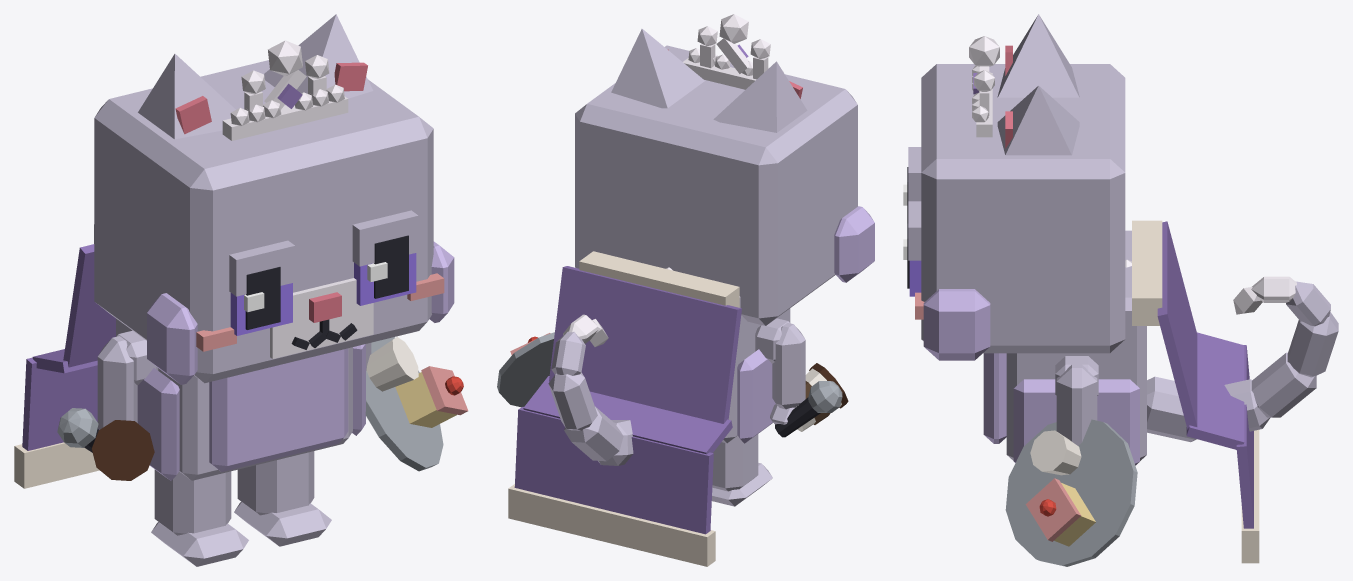
File: CatCafe_Cat_DuchessMarzipan_Work.glb
3 renders of one model, left to right at view 1: azimuth 30°, elevation 25°; view 2: azimuth 150°, elevation 25°; view 3: azimuth 270°, elevation 25°, orthographic. The views are drawn at different scales.
Visible parts, largest first — view 1: CatCafe_Cat_DuchessMarzipan_Work_Head, CatCafe_Cat_DuchessMarzipan_Work_Body, CatCafe_Cat_DuchessMarzipan_Work_Prop2, CatCafe_Cat_DuchessMarzipan_Work_Held_Waiter, CatCafe_Cat_DuchessMarzipan_Work_Prop, CatCafe_Cat_DuchessMarzipan_Work_LegB2, CatCafe_Cat_DuchessMarzipan_Work_LegB1, CatCafe_Cat_DuchessMarzipan_Work_Eye2, CatCafe_Cat_DuchessMarzipan_Work_Eye1, CatCafe_Cat_DuchessMarzipan_Work_EarR, CatCafe_Cat_DuchessMarzipan_Work_EarL, CatCafe_Cat_DuchessMarzipan_Work_LegF2 (+2 smaller); view 2: CatCafe_Cat_DuchessMarzipan_Work_Head, CatCafe_Cat_DuchessMarzipan_Work_Prop2, CatCafe_Cat_DuchessMarzipan_Work_Tail, CatCafe_Cat_DuchessMarzipan_Work_Body, CatCafe_Cat_DuchessMarzipan_Work_EarL, CatCafe_Cat_DuchessMarzipan_Work_Prop, CatCafe_Cat_DuchessMarzipan_Work_EarR, CatCafe_Cat_DuchessMarzipan_Work_LegB2, CatCafe_Cat_DuchessMarzipan_Work_LegF2, CatCafe_Cat_DuchessMarzipan_Work_Held_Waiter, CatCafe_Cat_DuchessMarzipan_Work_Held_Entertainer, CatCafe_Cat_DuchessMarzipan_Work_Held_Barista; view 3: CatCafe_Cat_DuchessMarzipan_Work_Head, CatCafe_Cat_DuchessMarzipan_Work_Prop2, CatCafe_Cat_DuchessMarzipan_Work_Held_Waiter, CatCafe_Cat_DuchessMarzipan_Work_Body, CatCafe_Cat_DuchessMarzipan_Work_Tail, CatCafe_Cat_DuchessMarzipan_Work_EarL, CatCafe_Cat_DuchessMarzipan_Work_EarR, CatCafe_Cat_DuchessMarzipan_Work_LegF1, CatCafe_Cat_DuchessMarzipan_Work_Prop, CatCafe_Cat_DuchessMarzipan_Work_Eye1, CatCafe_Cat_DuchessMarzipan_Work_Eye2.
Boxes of the visible parts, left/top/right/bottom form: CatCafe_Cat_DuchessMarzipan_Work_Head: left=94, top=60, right=454, bottom=384; CatCafe_Cat_DuchessMarzipan_Work_Body: left=116, top=318, right=365, bottom=480; CatCafe_Cat_DuchessMarzipan_Work_Prop2: left=14, top=244, right=115, bottom=488; CatCafe_Cat_DuchessMarzipan_Work_Held_Waiter: left=365, top=337, right=468, bottom=471; CatCafe_Cat_DuchessMarzipan_Work_Prop: left=222, top=40, right=348, bottom=140; CatCafe_Cat_DuchessMarzipan_Work_LegB2: left=151, top=469, right=248, bottom=566; CatCafe_Cat_DuchessMarzipan_Work_LegB1: left=234, top=451, right=331, bottom=546; CatCafe_Cat_DuchessMarzipan_Work_Eye2: left=229, top=240, right=295, bottom=335; CatCafe_Cat_DuchessMarzipan_Work_Eye1: left=352, top=210, right=418, bottom=305; CatCafe_Cat_DuchessMarzipan_Work_EarR: left=138, top=54, right=235, bottom=139; CatCafe_Cat_DuchessMarzipan_Work_EarL: left=264, top=14, right=373, bottom=98; CatCafe_Cat_DuchessMarzipan_Work_LegF2: left=97, top=336, right=137, bottom=429; CatCafe_Cat_DuchessMarzipan_Work_Head: left=575, top=45, right=874, bottom=325; CatCafe_Cat_DuchessMarzipan_Work_Prop2: left=508, top=251, right=741, bottom=566; CatCafe_Cat_DuchessMarzipan_Work_Tail: left=548, top=314, right=633, bottom=465; CatCafe_Cat_DuchessMarzipan_Work_Body: left=722, top=296, right=790, bottom=443; CatCafe_Cat_DuchessMarzipan_Work_EarL: left=611, top=29, right=704, bottom=108; CatCafe_Cat_DuchessMarzipan_Work_Prop: left=683, top=14, right=783, bottom=89; CatCafe_Cat_DuchessMarzipan_Work_EarR: left=713, top=61, right=807, bottom=132; CatCafe_Cat_DuchessMarzipan_Work_LegB2: left=711, top=434, right=772, bottom=506; CatCafe_Cat_DuchessMarzipan_Work_LegF2: left=770, top=322, right=805, bottom=424; CatCafe_Cat_DuchessMarzipan_Work_Held_Waiter: left=497, top=332, right=554, bottom=407; CatCafe_Cat_DuchessMarzipan_Work_Held_Entertainer: left=775, top=381, right=842, bottom=437; CatCafe_Cat_DuchessMarzipan_Work_Held_Barista: left=796, top=363, right=848, bottom=431; CatCafe_Cat_DuchessMarzipan_Work_Head: left=915, top=64, right=1125, bottom=360; CatCafe_Cat_DuchessMarzipan_Work_Prop2: left=1125, top=220, right=1259, bottom=563; CatCafe_Cat_DuchessMarzipan_Work_Held_Waiter: left=1005, top=419, right=1137, bottom=566; CatCafe_Cat_DuchessMarzipan_Work_Body: left=983, top=230, right=1146, bottom=465; CatCafe_Cat_DuchessMarzipan_Work_Tail: left=1147, top=276, right=1338, bottom=442; CatCafe_Cat_DuchessMarzipan_Work_EarL: left=997, top=85, right=1079, bottom=155; CatCafe_Cat_DuchessMarzipan_Work_EarR: left=997, top=14, right=1079, bottom=97; CatCafe_Cat_DuchessMarzipan_Work_LegF1: left=1056, top=364, right=1097, bottom=445; CatCafe_Cat_DuchessMarzipan_Work_Prop: left=969, top=36, right=999, bottom=137; CatCafe_Cat_DuchessMarzipan_Work_Eye1: left=903, top=201, right=921, bottom=296; CatCafe_Cat_DuchessMarzipan_Work_Eye2: left=903, top=147, right=921, bottom=223.
Size of the model in its own units: 1.53 by 1.98 by 1.62.
1 material, 1 textured.
